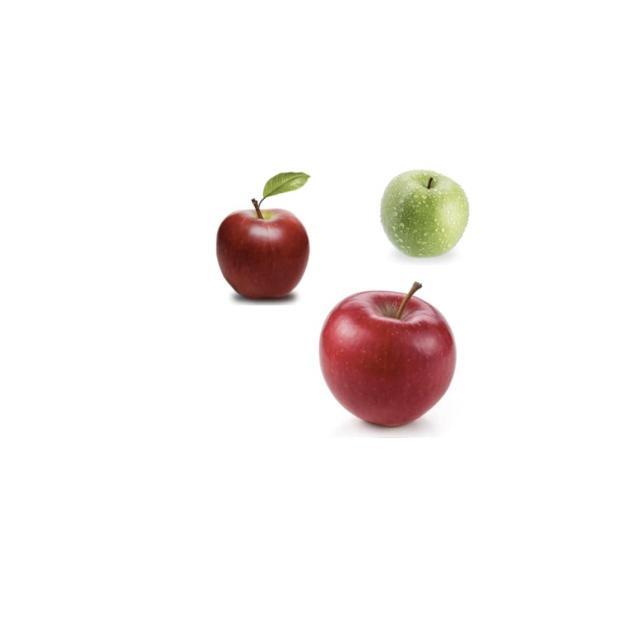Fresh Apple: (328, 274, 457, 444), (193, 172, 320, 308), (383, 165, 467, 268)
